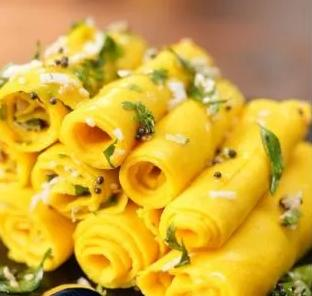khandvi: (8, 59, 312, 286)
